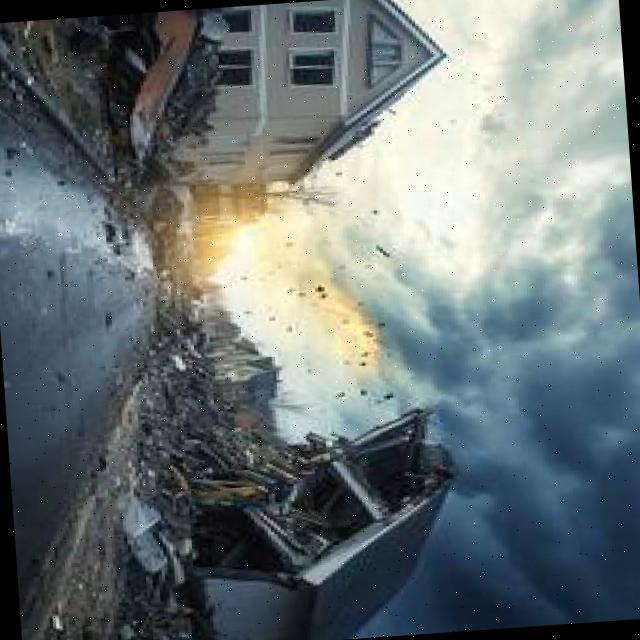road collapse: (0, 0, 403, 625)
